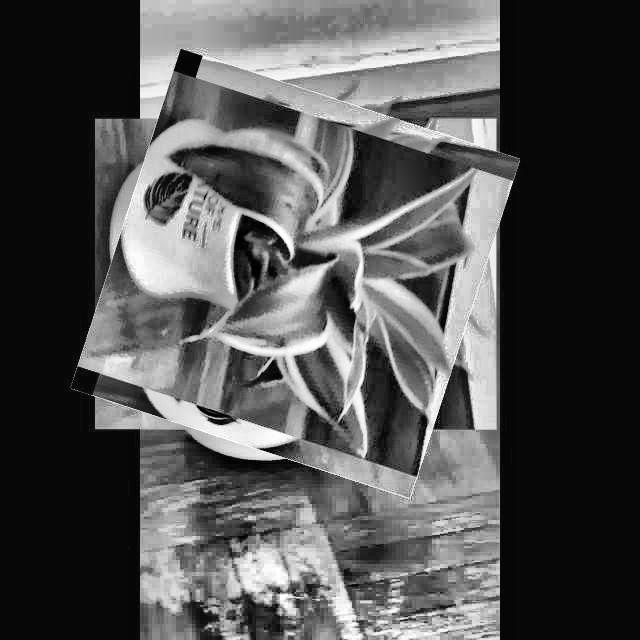plants: (94, 72, 497, 476)
